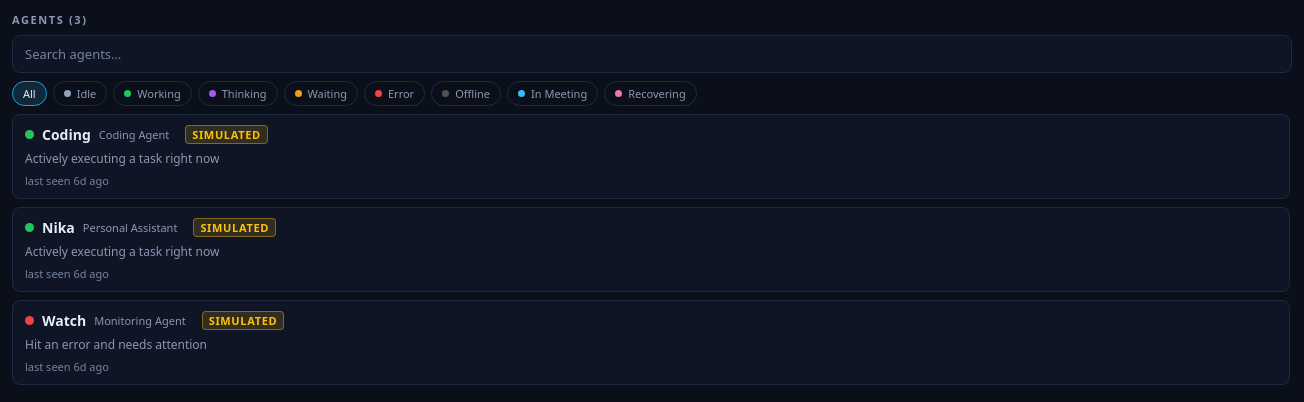
AgentList › filters by status chip
This screenshot has width=1304, height=402.
Click the button with aria-label "filter by error" at (395, 94), box [364, 81, 425, 106]
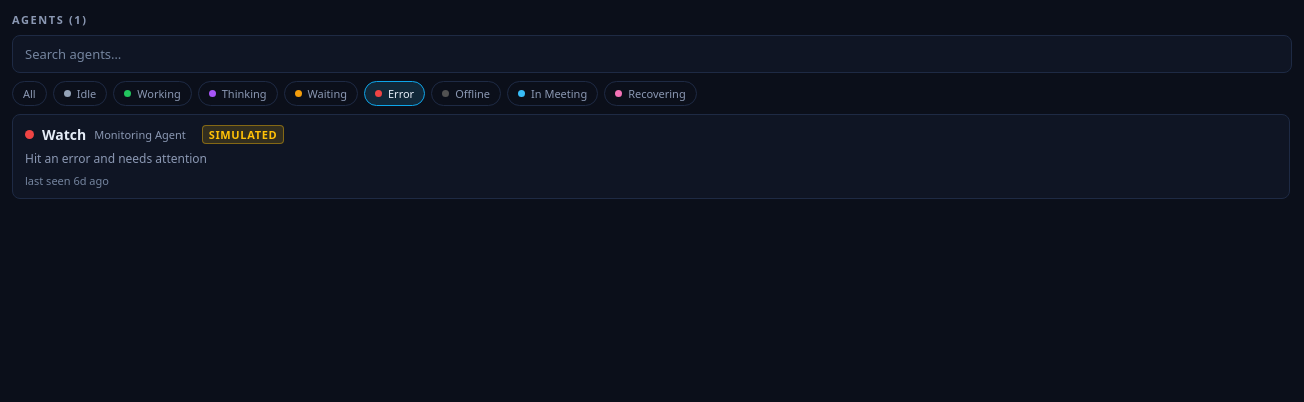
Expected: the text "Watch" is shown, [42, 125, 86, 144]
Result: the button "Nika" is gone
Result: the button "Coding" is gone
